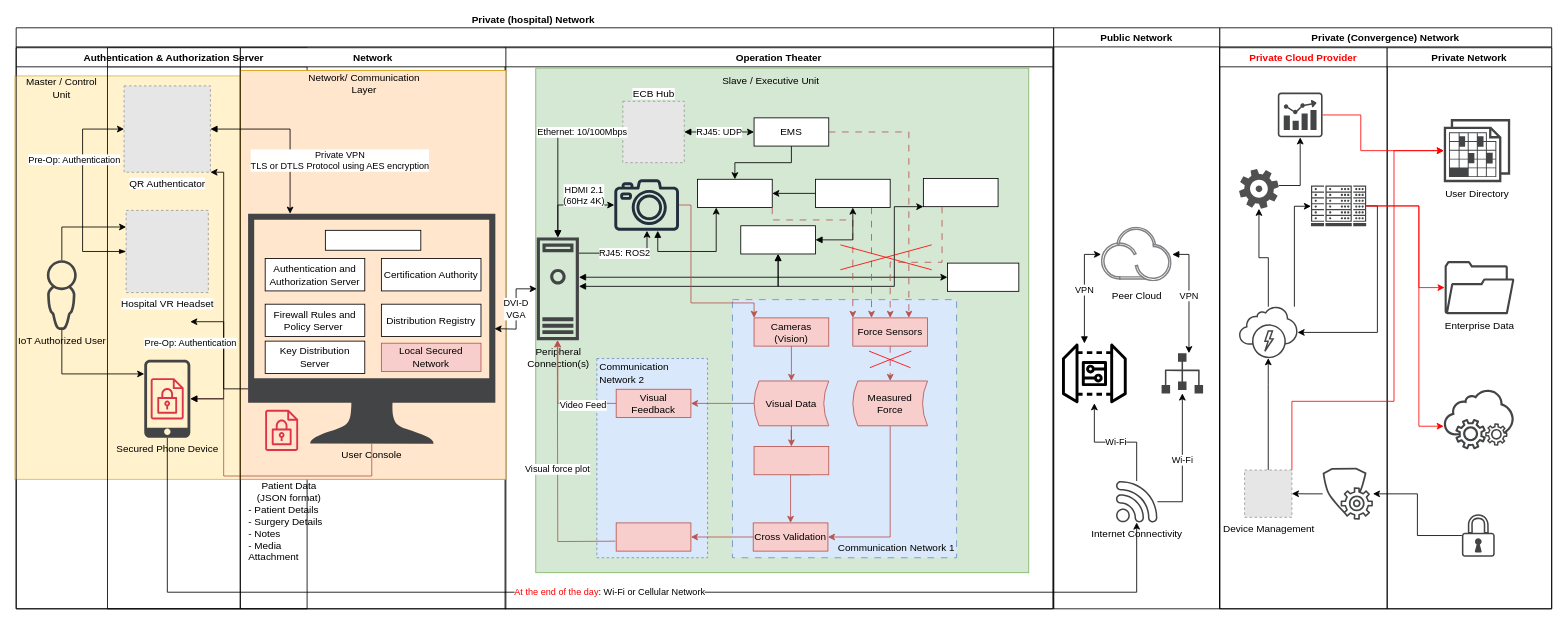
The diagram is 1566 pixels wide and 623 high, and some of its shapes have lost their labels. Grey dashed boxes stand in for pictures. Here are the shapes that lost their labels. From the top down, the centre of each, then its label:
At point 1299,114: "Faster Viz and Analytics".
At point 646,204: "CCU".
At point 734,193: "RBA1".
At point 852,193: "RBA2".
At point 960,192: "RBA3".
At point 1258,188: "Application Logic".
At point 1338,205: "Data Storage".
At point 373,239: "Session Manager".
At point 777,239: "RF(1) Generator".
At point 983,276: "Suction".
At point 1268,332: "IoT Transformation & Connectivity".
At point 1094,373: "IoT Gateway".
At point 1182,373: "Edge services".
At point 1478,419: "Inventory Management".
At point 791,460: "Synthetic Force Data".
At point 1347,493: "Device Identity Service".
At point 653,536: "Validated Haptic Feedback".
At point 1477,535: "Device Registry".
